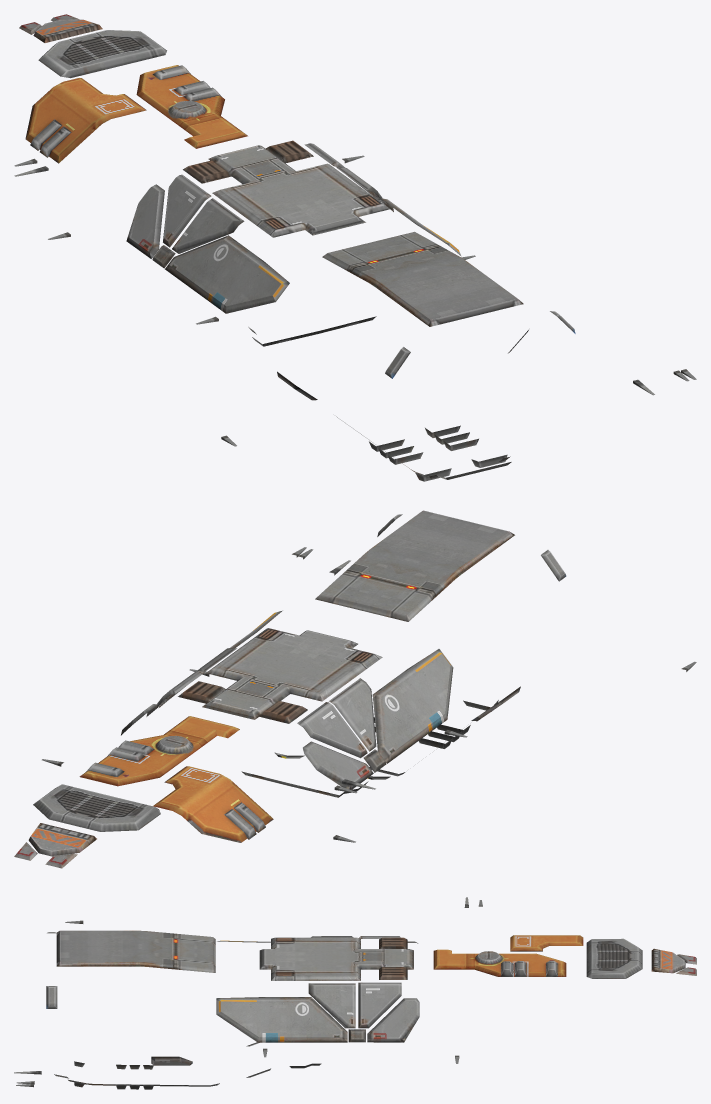
The model's file is hgn_cf_torp_01_t2.glb.
3 views of the same model, one above another, from view 1: azimuth 30°, elevation 25°; view 2: azimuth 150°, elevation 25°; view 3: azimuth 270°, elevation 25° (orthographic). The views are drawn at different scales.
Visible parts, largest first — view 1: hgn_torpedo_fregate_LOD0; view 2: hgn_torpedo_fregate_LOD0; view 3: hgn_torpedo_fregate_LOD0.
Boxes of the visible parts, bbox=[...] form: hgn_torpedo_fregate_LOD0: bbox=[14, 14, 696, 481]; hgn_torpedo_fregate_LOD0: bbox=[14, 510, 696, 868]; hgn_torpedo_fregate_LOD0: bbox=[14, 897, 696, 1089].
Size of what is drawn, in the model's own units: 1.29 by 0.4978 by 2.39.
1 material, 1 textured.
